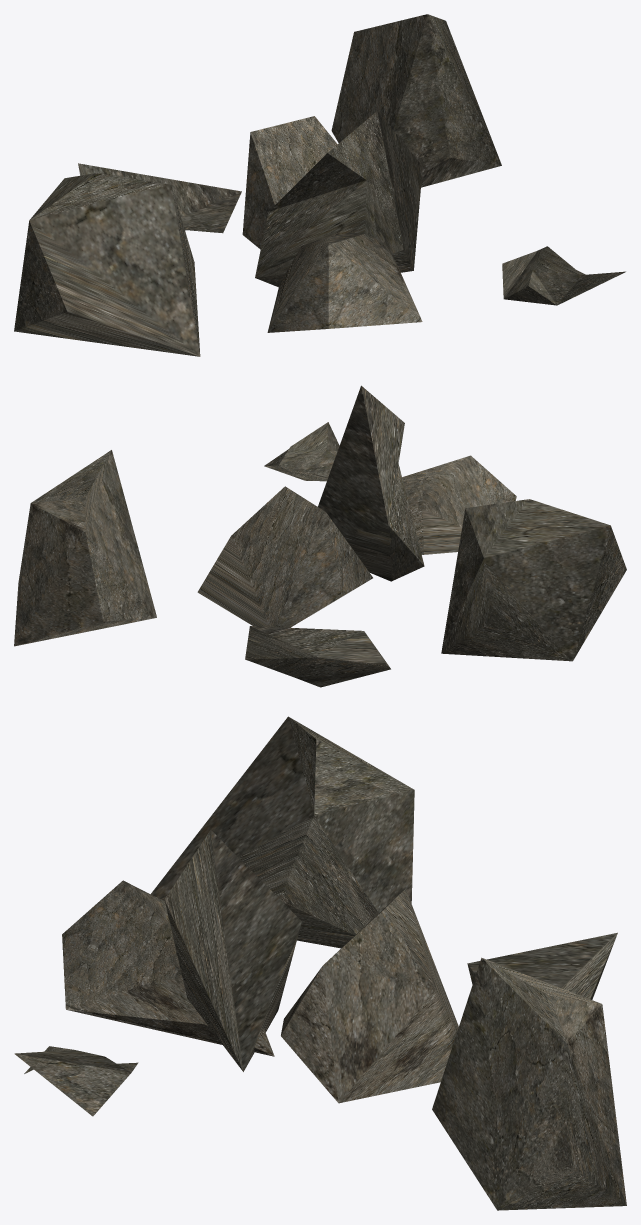
File: mm9_deco_stonedebris04lsp7.glb
3 views of the same model, one above another, from view 1: azimuth 30°, elevation 25°; view 2: azimuth 150°, elevation 25°; view 3: azimuth 270°, elevation 25° (orthographic). The views are drawn at different scales.
Parts seen in each view (by area): view 1: Stonedebris04lsp7; view 2: Stonedebris04lsp7; view 3: Stonedebris04lsp7.
Part boxes in pixels (x1,y1,x2,y2): Stonedebris04lsp7: (14,14,625,356); Stonedebris04lsp7: (14,385,626,687); Stonedebris04lsp7: (14,716,626,1210).
Size of the model in its own units: 2.43 by 0.8951 by 1.96.
Materials: 1 (1 with a texture image).
